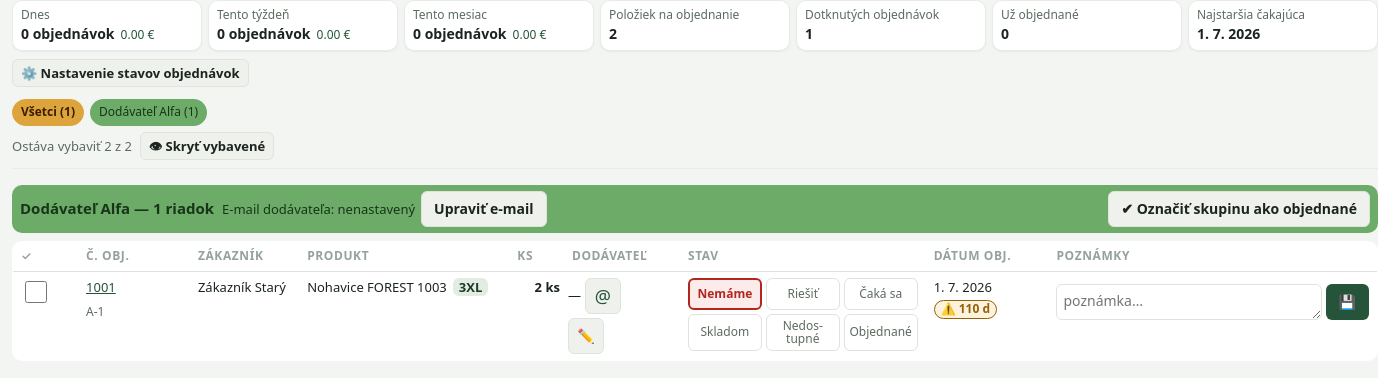
Test: manažér nastaví e-mail dodávateľa cez formulár, zobrazenie sa aktualizuje bez refetchu
Expected: the text "E-mail dodávateľa: nenastavený" is shown, [222,200,415,218]
Click the button "Upraviť e-mail" at point(484, 209), box [421,191,547,227]
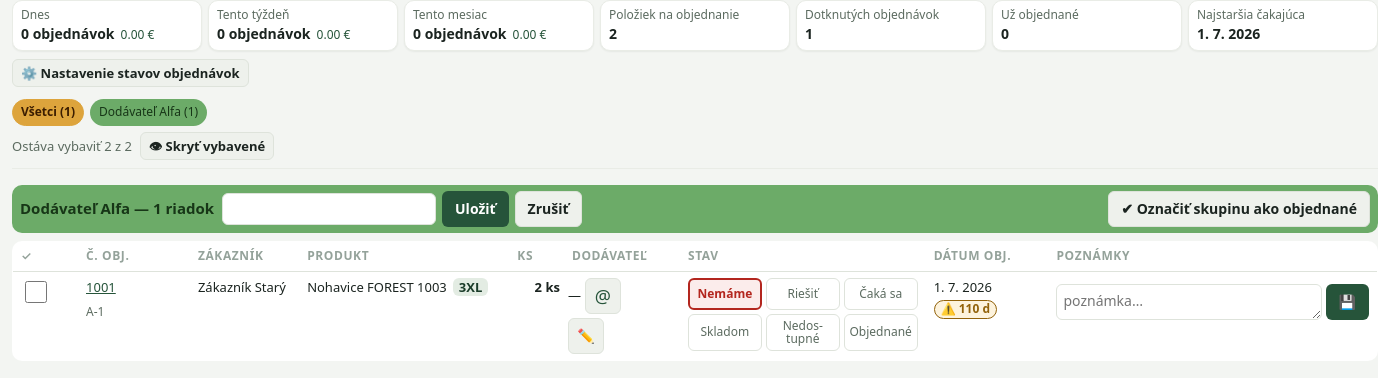
Type "alfa@dodavatel.example" into the field named "E-mail dodávateľa Dodávateľ Alfa" at point(329, 209), box [222,193,436,225]
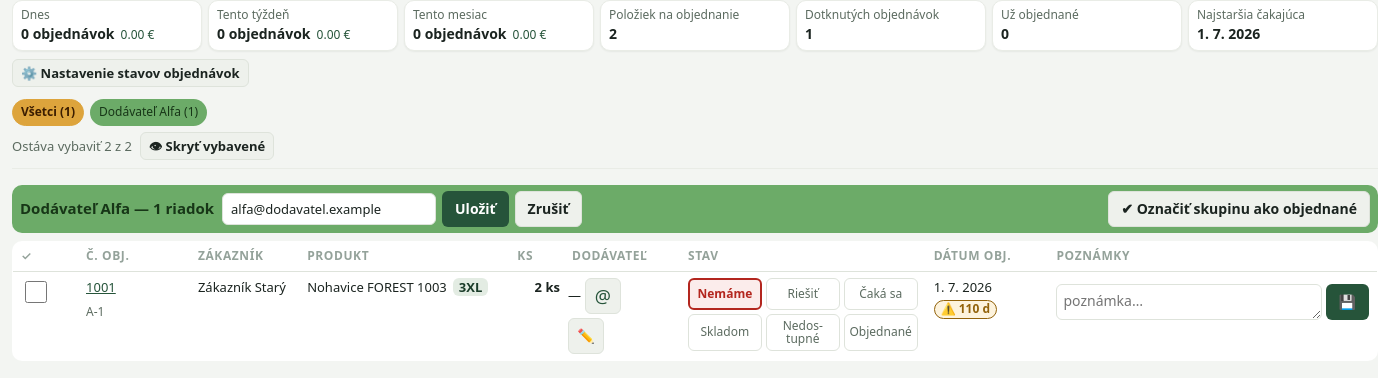
Click the button "Uložiť" at point(475, 209), box [442,191,509,227]
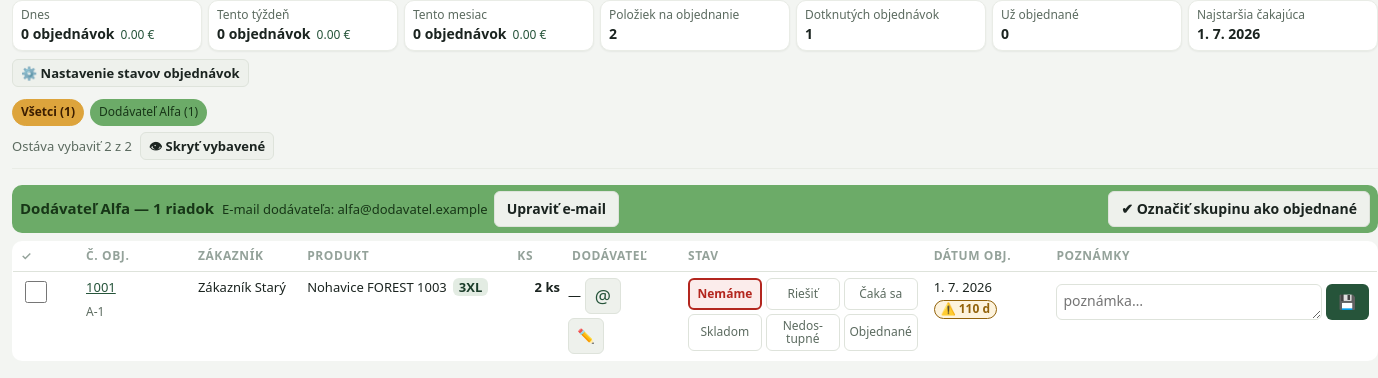
Expected: the text "E-mail dodávateľa: alfa@dodavatel.example" is shown, [222,200,488,218]
